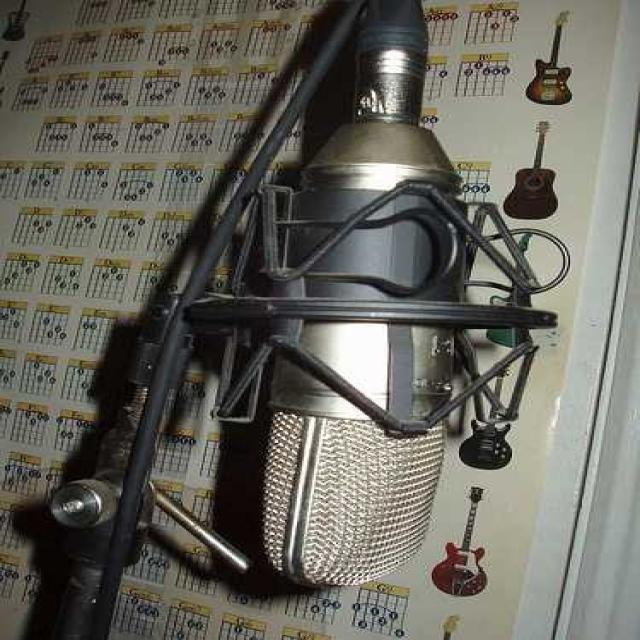microphone: (260, 11, 470, 580)
